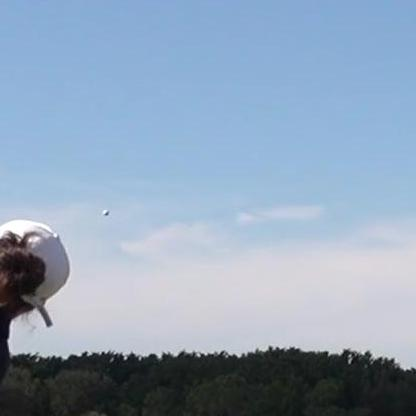golfball: (100, 208, 108, 215)
